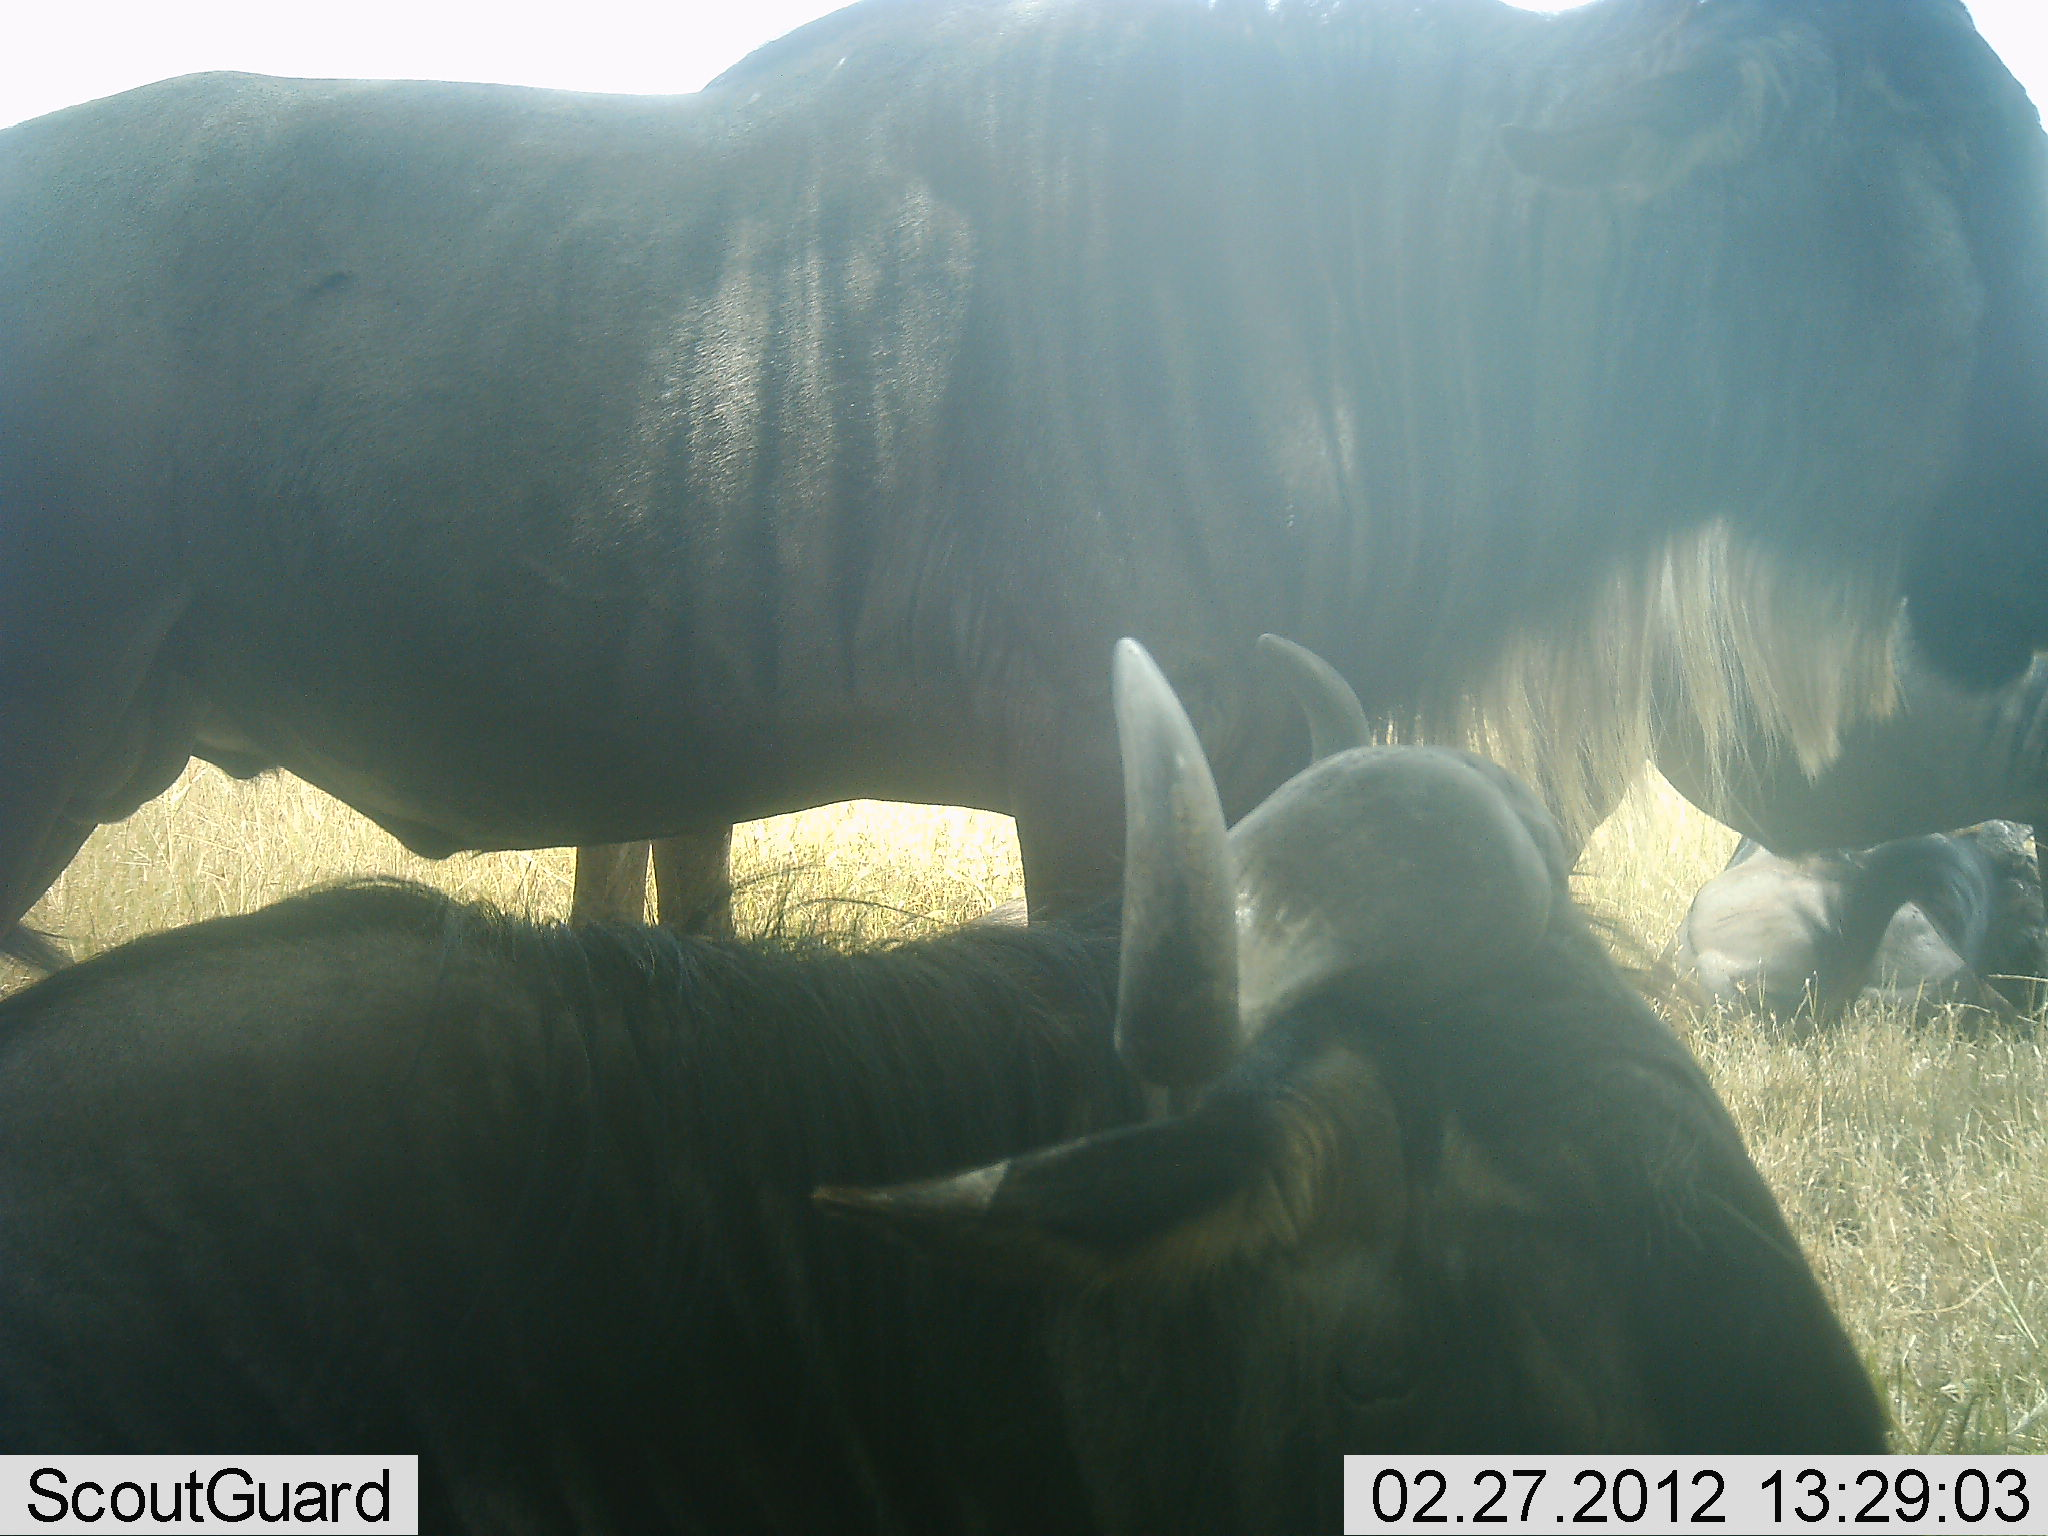Zebra: (2, 2, 2048, 1091), (2, 618, 1904, 1536), (458, 298, 1401, 1007), (1646, 783, 2048, 1033)
